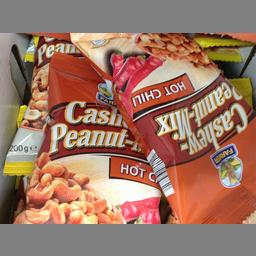nuts: (68, 32, 254, 223), (12, 52, 162, 222)
